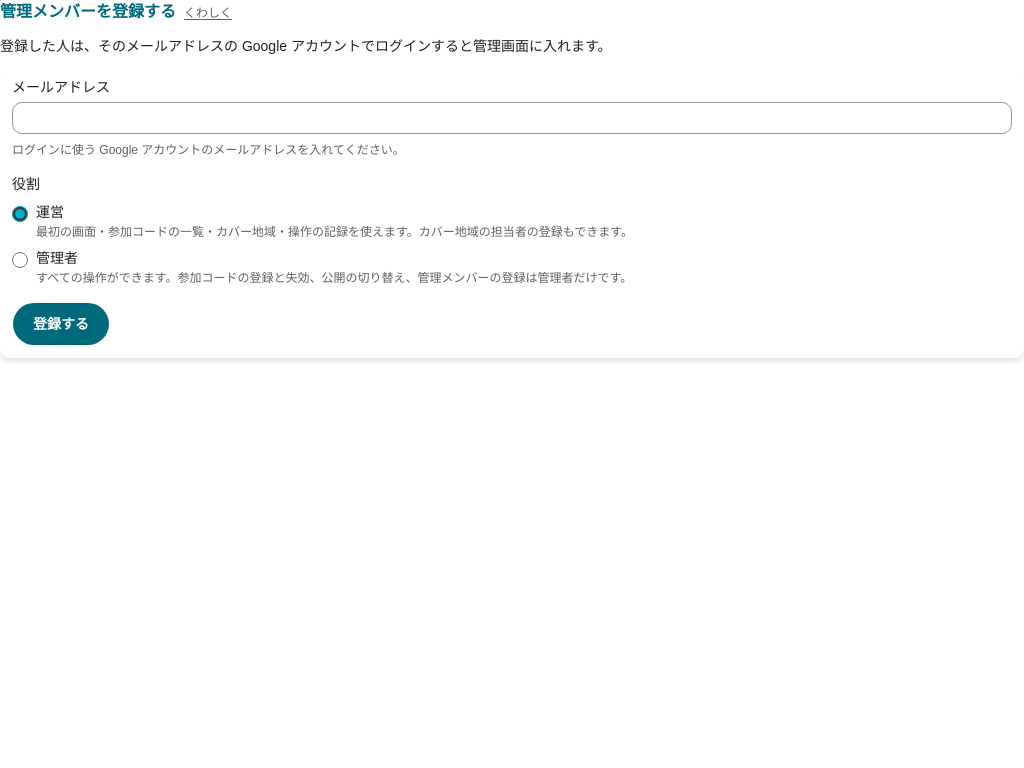
Scenario: 確認ではそろえたメールと役割を見せ、送る値は入力のまま（大文字もそのまま）
Step 1. Type "New@Example.invalid" into the field labelled "メールアドレス" → (512, 118), box [12, 102, 1012, 134]
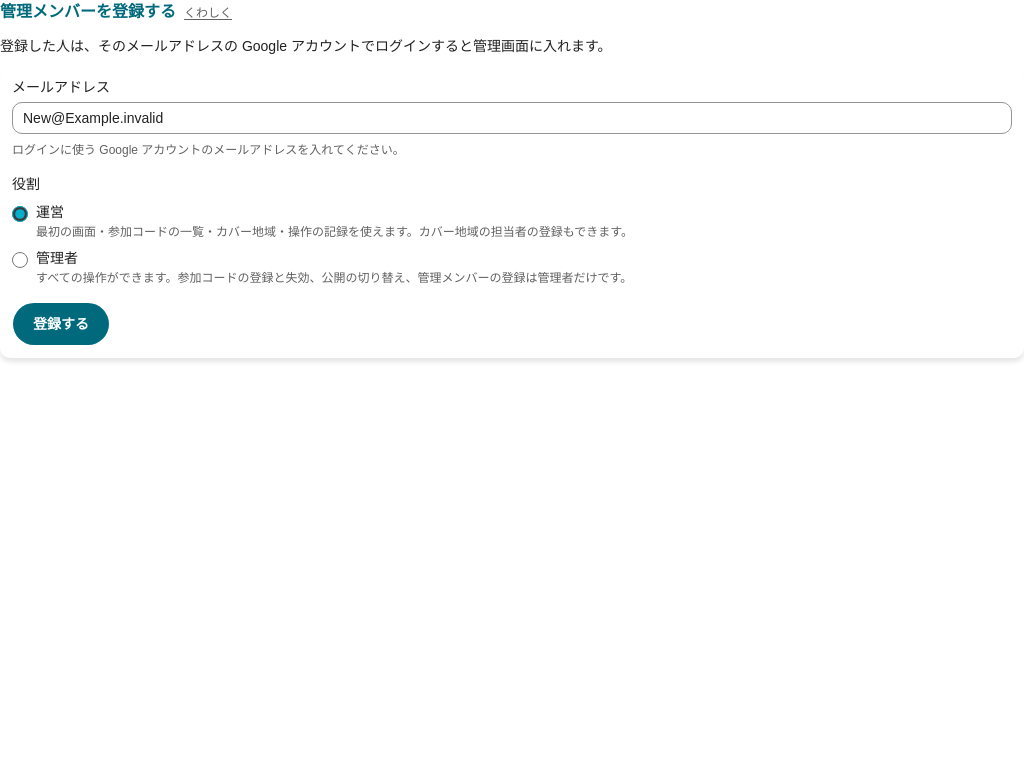
Step 2. Click the radio button labelled "管理者 すべての操作ができます。参加コードの登録と失効、公開の切り替え、管理メンバーの登録は管理者だけです。" → click(20, 260), box [12, 252, 28, 268]
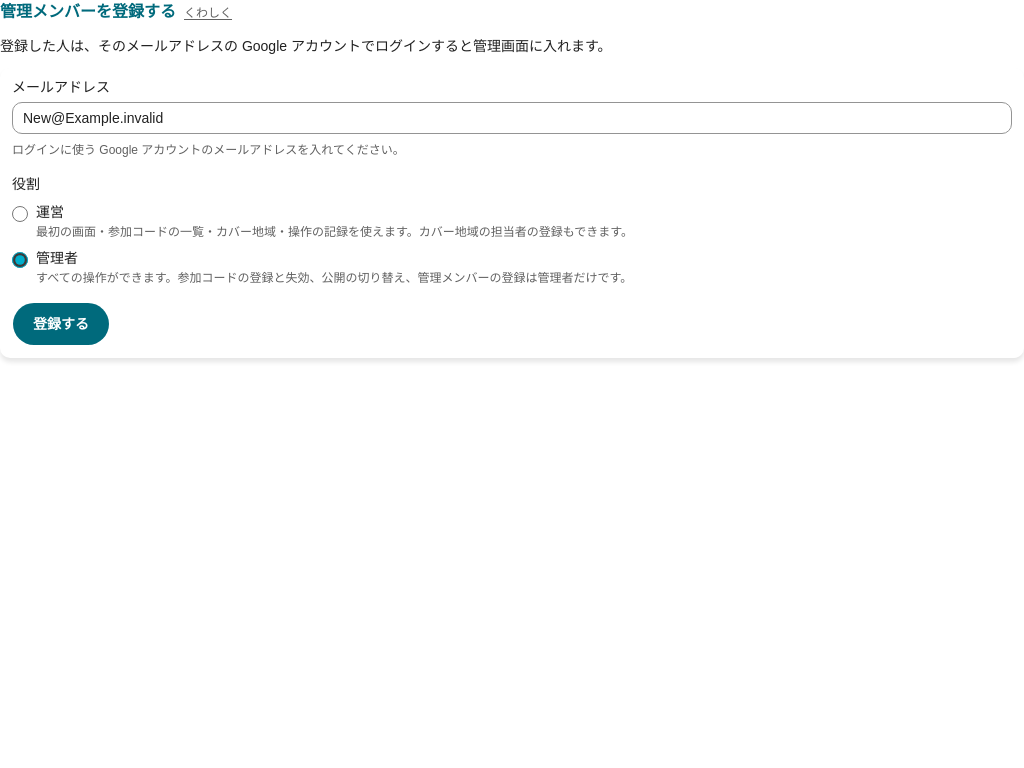
Step 3. Click the button "登録する" → click(61, 324), box [12, 302, 110, 346]
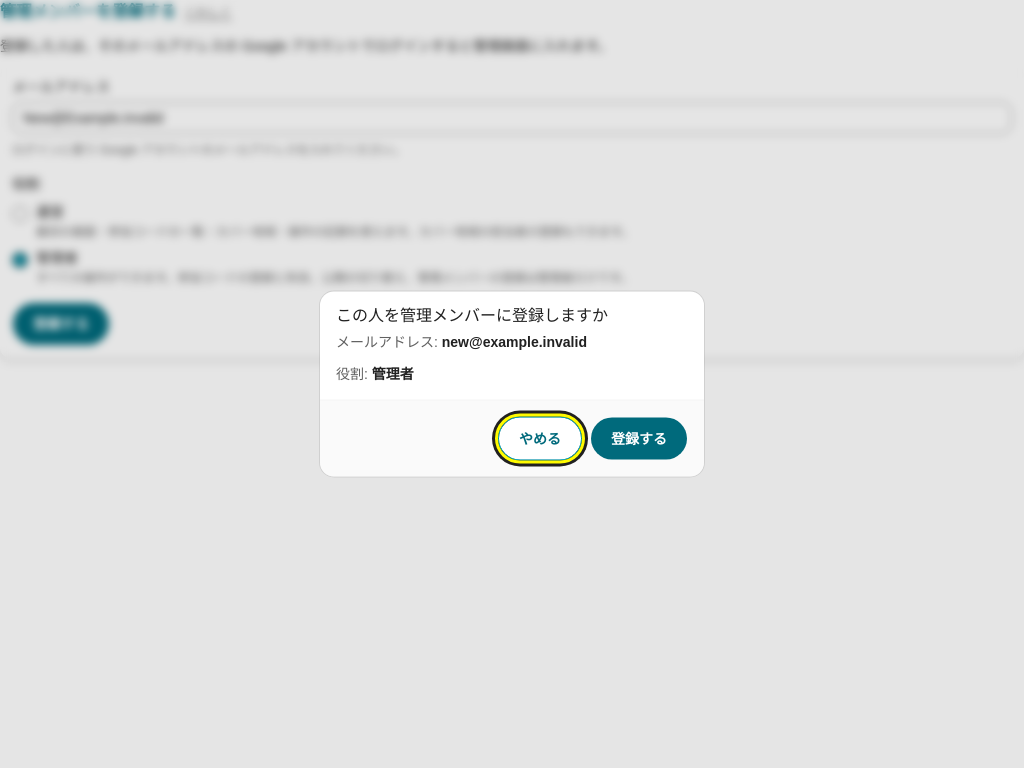
Check: the dialog "この人を管理メンバーに登録しますか" shows "new@example.invalid", box [442, 334, 587, 350]
Check: the dialog "この人を管理メンバーに登録しますか" shows "役割: 管理者", box [320, 292, 704, 476]
Step 4. Click the button "登録する" → click(639, 438), box [590, 416, 688, 460]
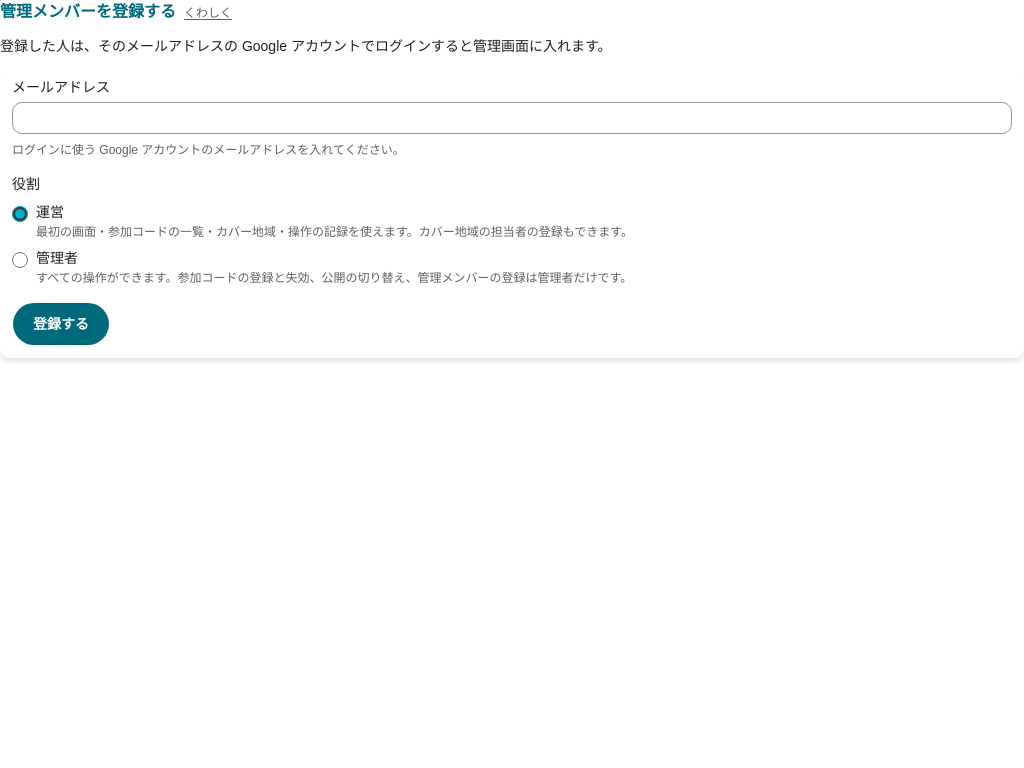
Check: the field labelled "メールアドレス" is empty, box [12, 102, 1012, 134]
Check: the radio button labelled "運営 最初の画面・参加コードの一覧・カバー地域・操作の記録を使えます。カバー地域の担当者の登録もできます。" is checked, box [12, 206, 28, 222]
